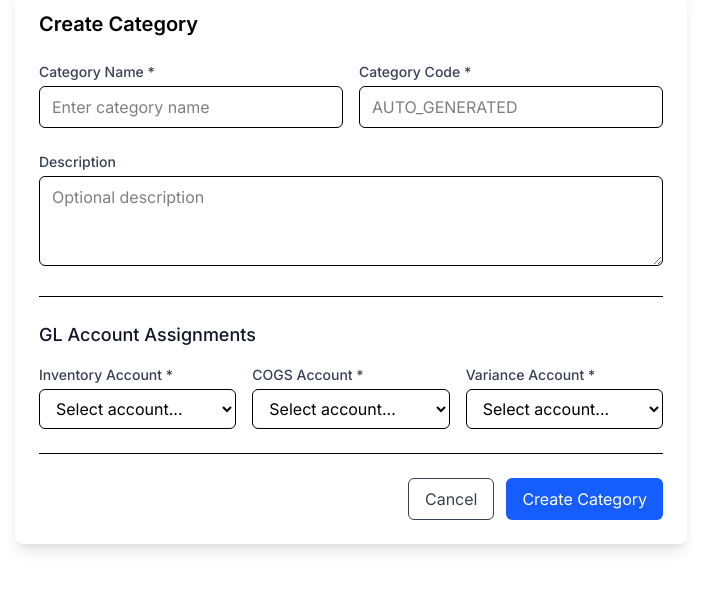
Scenario: CategoryForm › GL Account Integration › should validate GL account assignments
In the field labelled "Category Name *": (191, 107) x1=39 y1=86 x2=343 y2=128, type "Test Category"
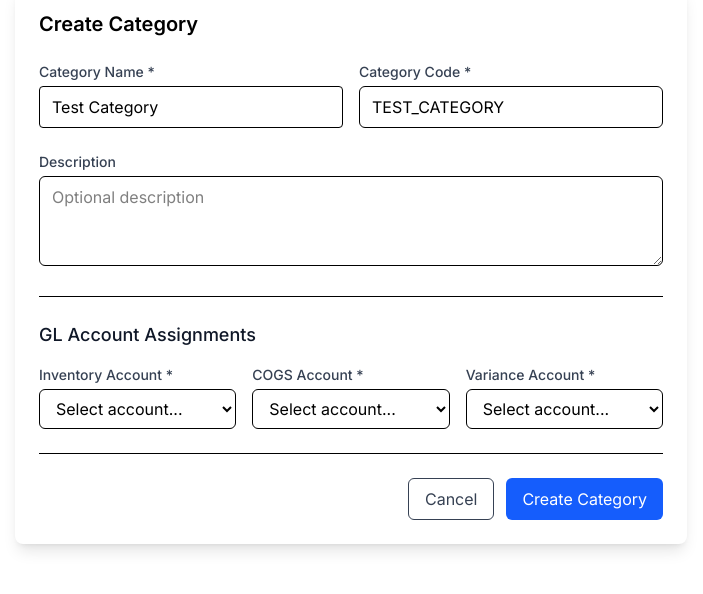
Click the button "Create Category": (585, 499) x1=506 y1=478 x2=663 y2=520
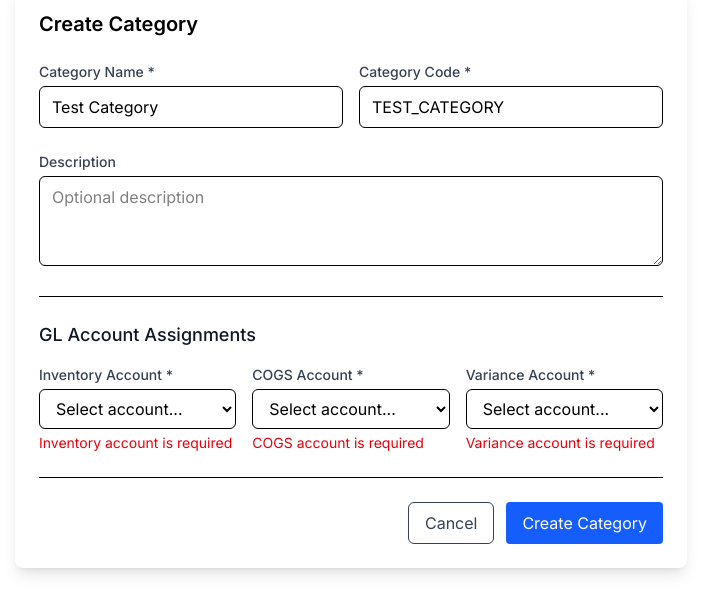
Expected: the text "Inventory account is required" is shown, x1=39 y1=433 x2=236 y2=453
Expected: the text "COGS account is required" is shown, x1=252 y1=433 x2=450 y2=453
